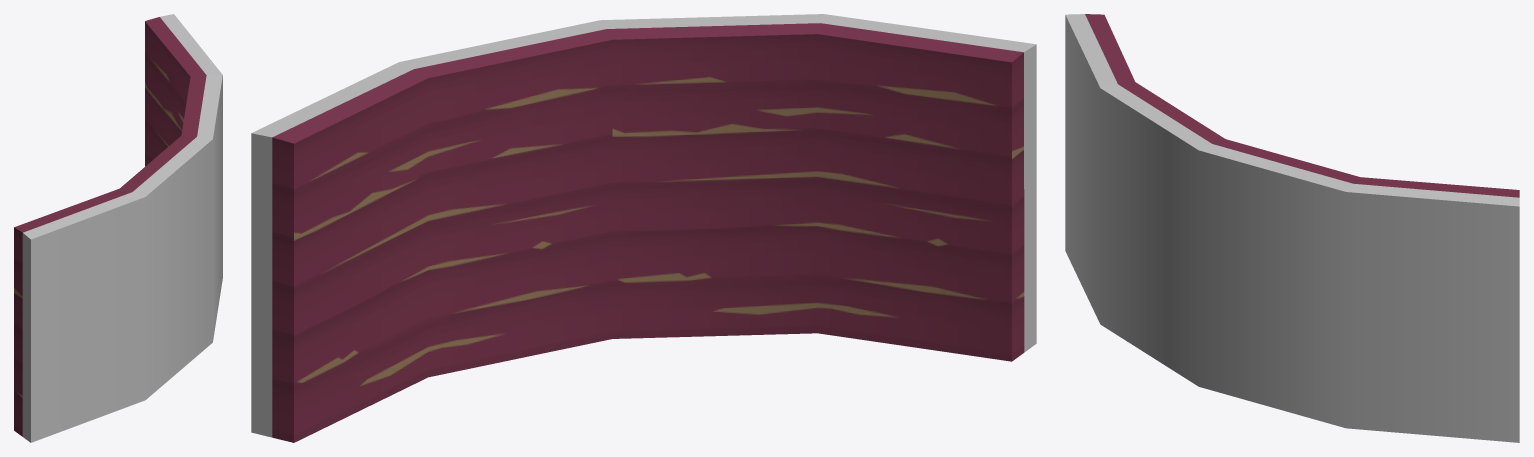
The model's file is SM_Bld_Wall_Curved_M_Half_01.fbx.
3 renders of one model, left to right at view 1: azimuth 30°, elevation 25°; view 2: azimuth 150°, elevation 25°; view 3: azimuth 270°, elevation 25°, orthographic. The views are drawn at different scales.
Visible parts, largest first — view 1: SM_Bld_Wall_Curved_M_Half_01; view 2: SM_Bld_Wall_Curved_M_Half_01; view 3: SM_Bld_Wall_Curved_M_Half_01.
Part boxes in pixels (x1,y1,x2,y2): SM_Bld_Wall_Curved_M_Half_01: (14,14,222,442); SM_Bld_Wall_Curved_M_Half_01: (251,14,1036,442); SM_Bld_Wall_Curved_M_Half_01: (1065,14,1519,442).
Size of the model in its own units: 261 by 150 by 261.
